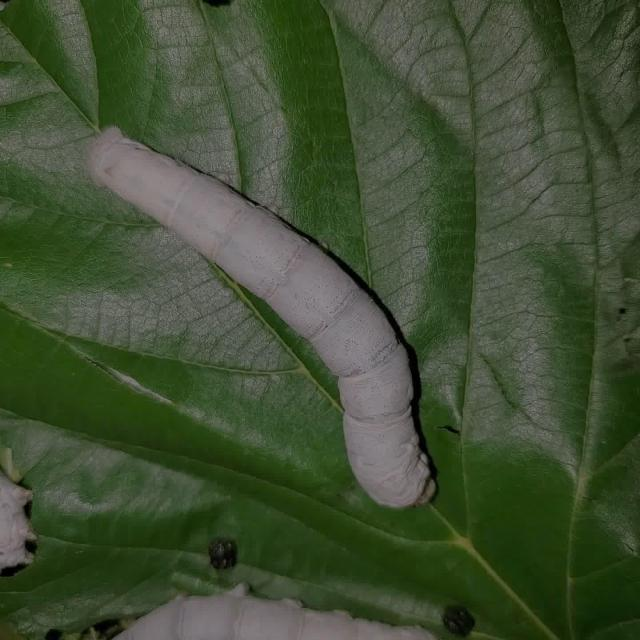Healthy: (75, 114, 442, 512)
